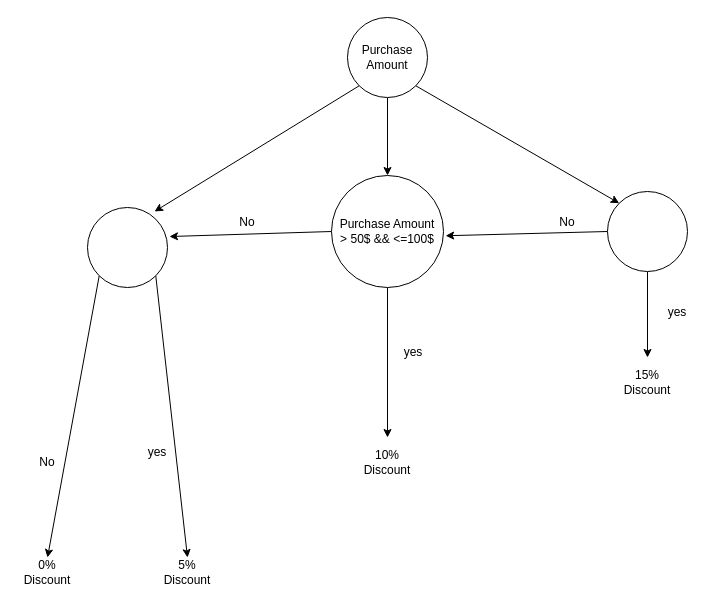
Some shapes in this 724 by 605 pixel diagram are drawn without their labels. The centre of each missing label's shape, as x and y in pixels:
"Purchase Amount <= 50$" goes at point (127, 247).
"Purchase Amount > 100$" goes at point (647, 231).
